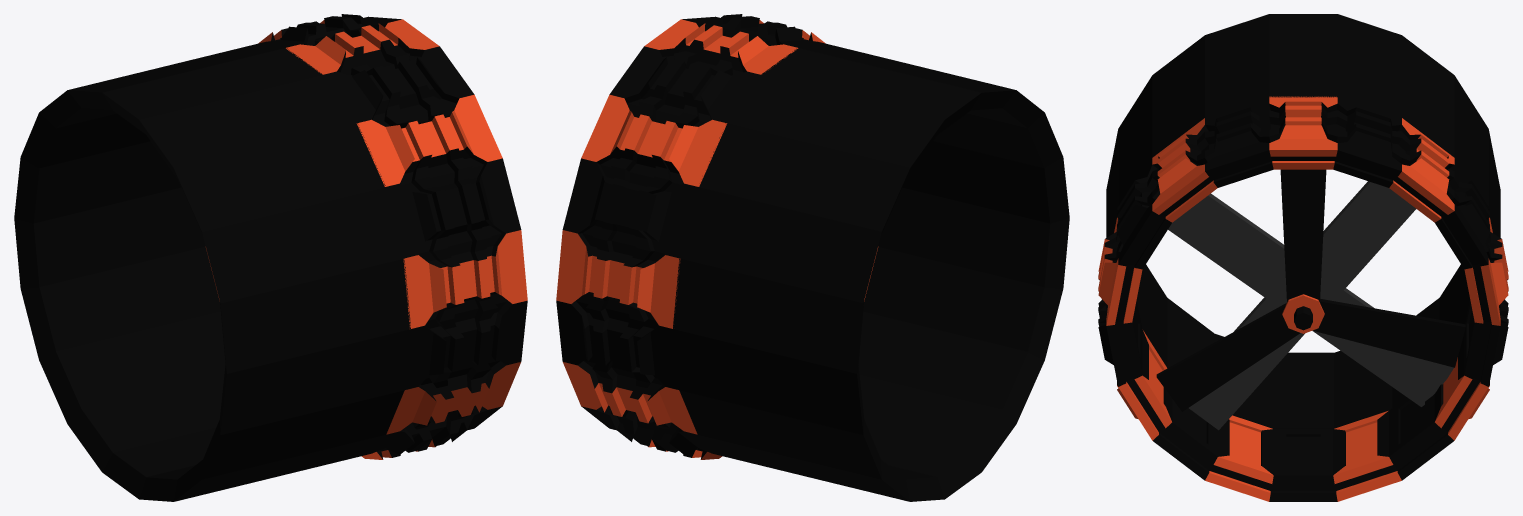
The model's file is vent chaneel- fan.fbx.
3 views of the same model, side by side, from view 1: azimuth 30°, elevation 25°; view 2: azimuth 150°, elevation 25°; view 3: azimuth 270°, elevation 25° (orthographic). The views are drawn at different scales.
Visible parts, largest first — view 1: Cylinder.001; view 2: Cylinder.001; view 3: Cylinder.001, Cylinder.005, Plane.001, Plane.002, Plane, Cylinder.006.
Part boxes in pixels (<box>): Cylinder.001: <box>14,14,527,501</box>; Cylinder.001: <box>556,14,1069,501</box>; Cylinder.001: <box>1098,14,1508,501</box>; Cylinder.005: <box>1168,181,1453,430</box>; Plane.001: <box>1313,298,1465,367</box>; Plane.002: <box>1156,303,1300,411</box>; Plane: <box>1280,169,1326,302</box>; Cylinder.006: <box>1282,294,1324,333</box>.
Bounding box in the file's own units: 327 × 416 × 416.
